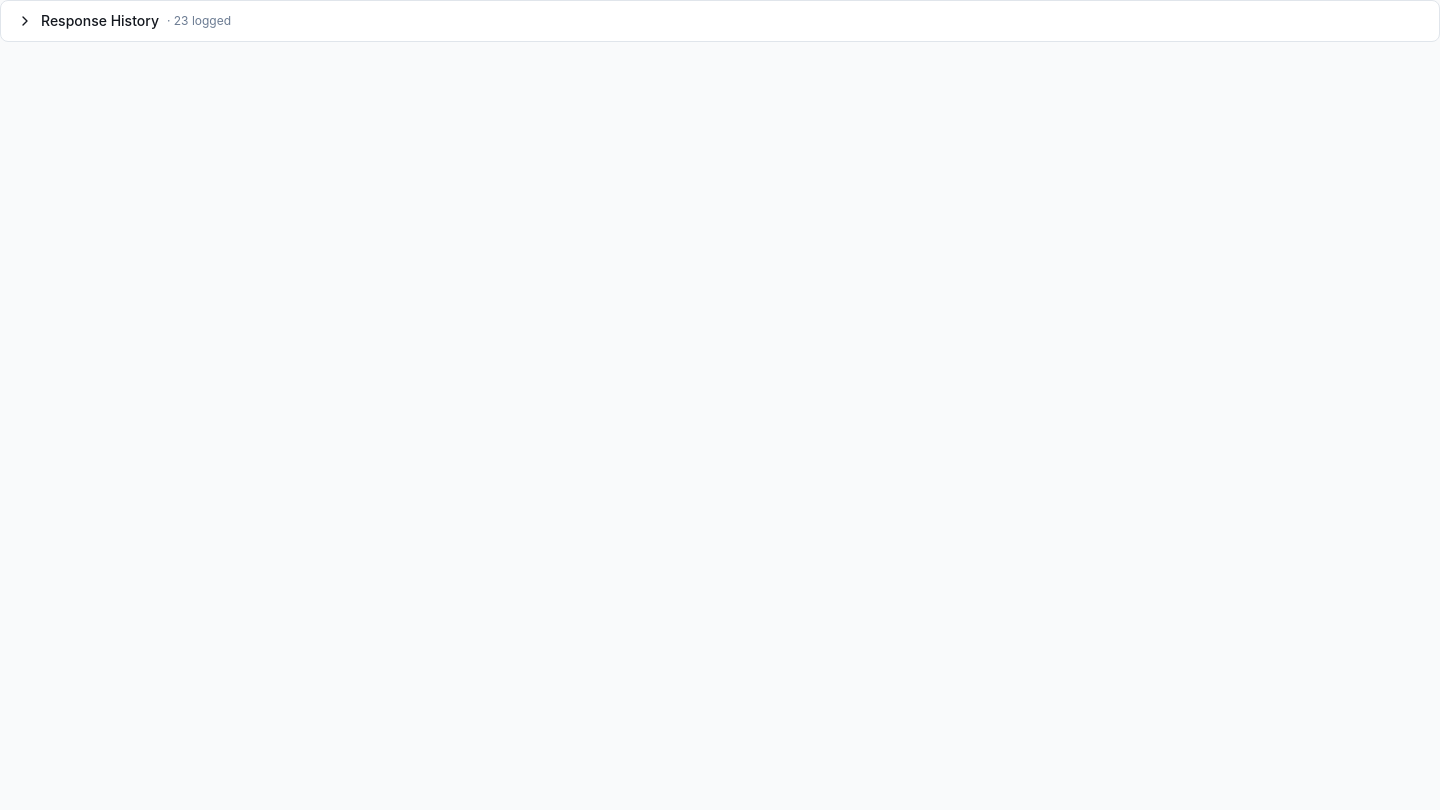
it: ResponseHistoryPanel — table, filters and paging › says so when filters match nothing
The image size is (1440, 810).
Click the button "Response History · 23 logged" at [100, 20], box [1, 1, 1439, 41]
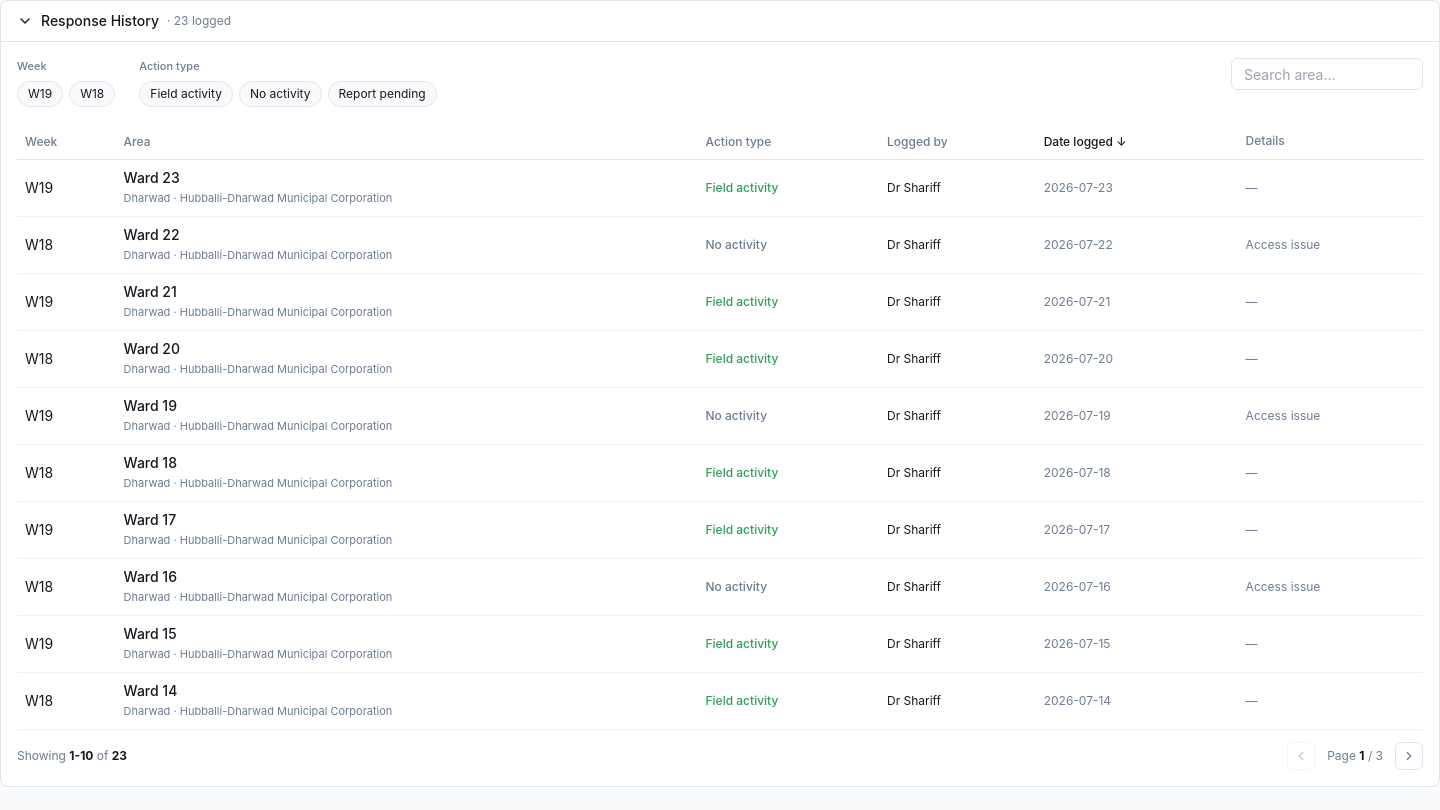
Type "nowhere" into the field named "Search areas" at [1327, 74], box [1231, 58, 1423, 90]
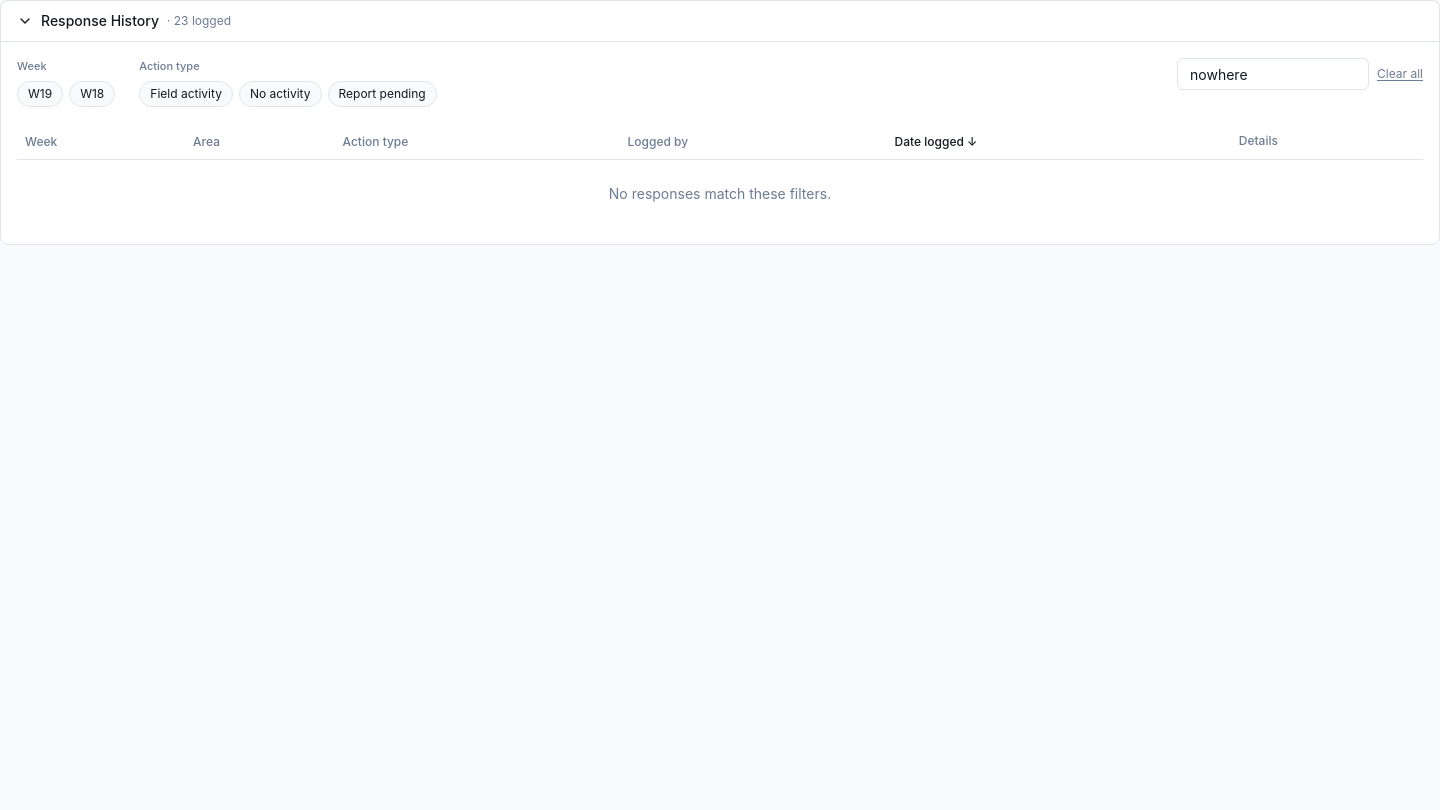
Check: the text "No responses match these filters." is shown, box [17, 159, 1423, 228]
